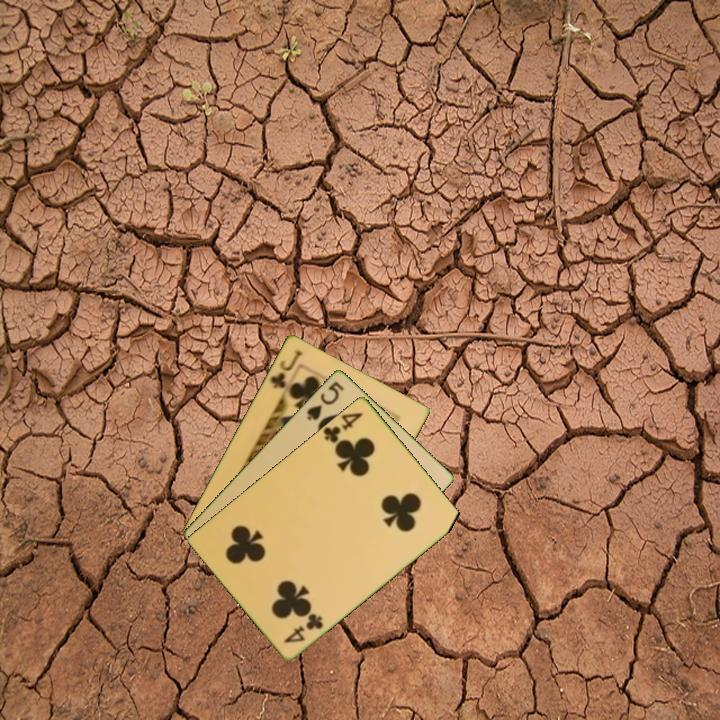4c: (320, 408, 366, 445), (281, 609, 326, 645)
5s: (303, 377, 347, 423)
Jc: (267, 346, 304, 392)
